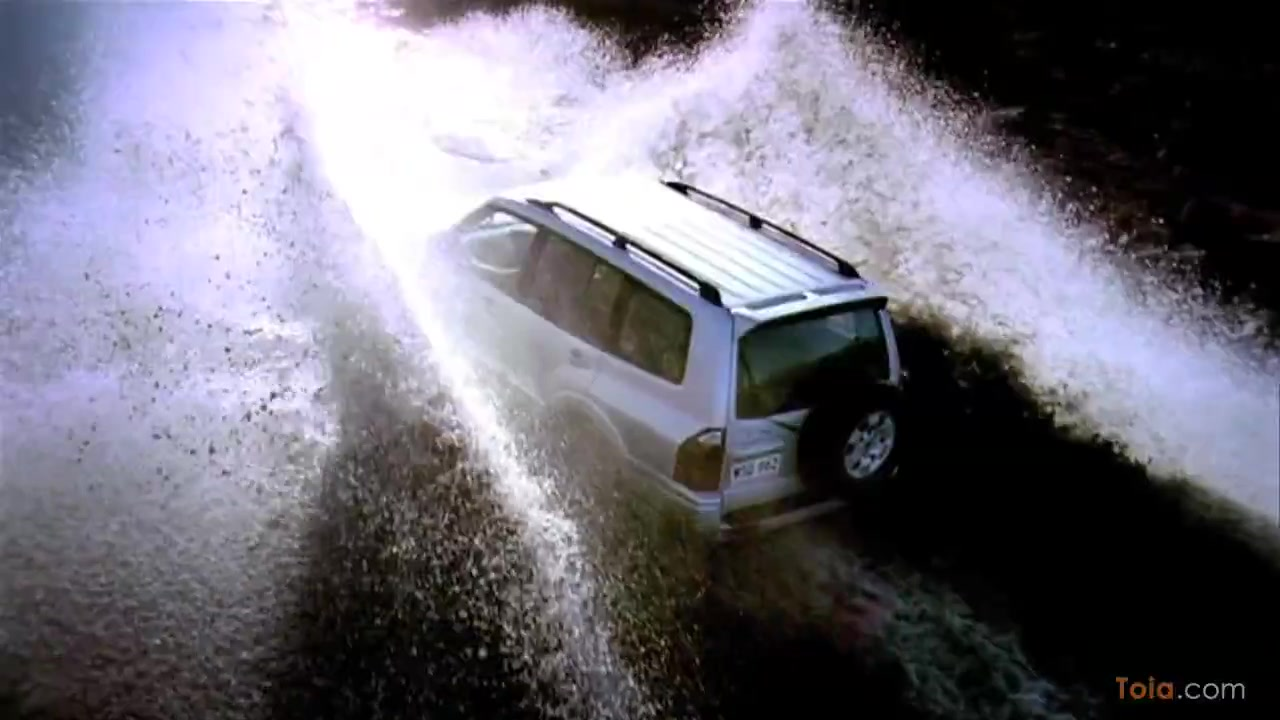car: (418, 171, 914, 556)
